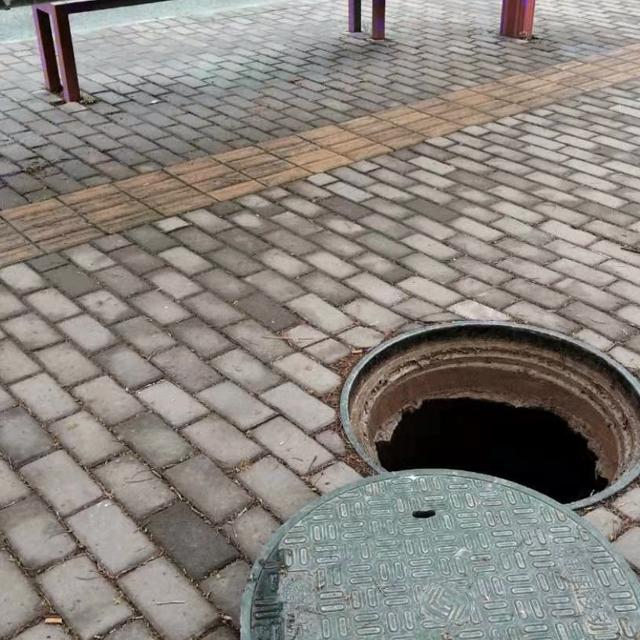uncovered: (236, 317, 640, 640)
